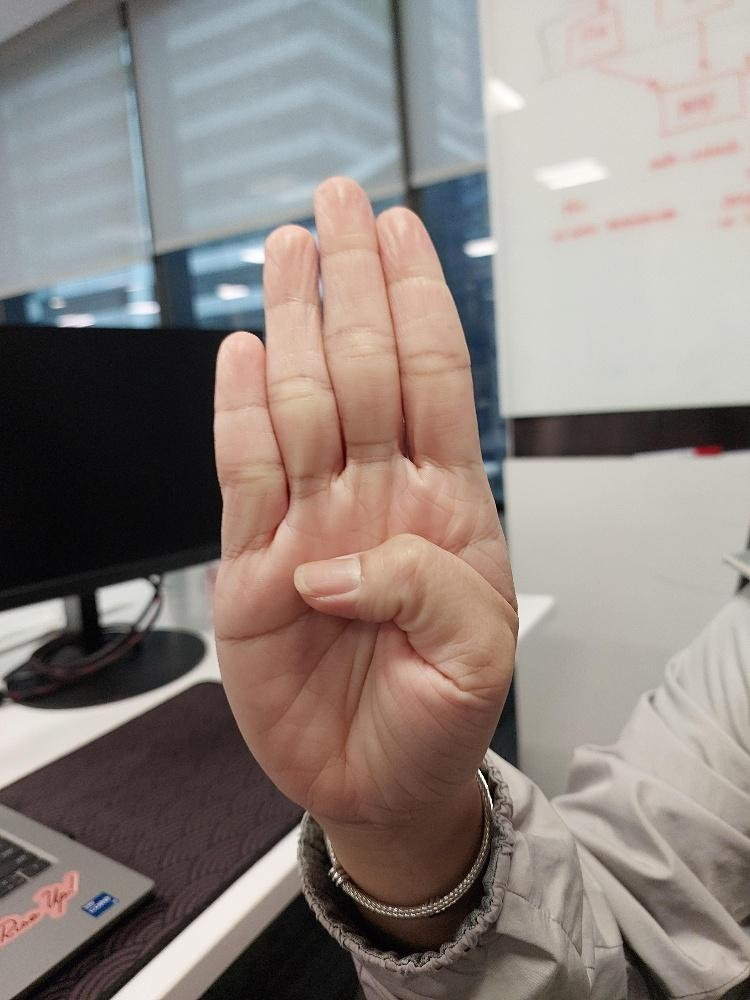b: (211, 176, 517, 821)
